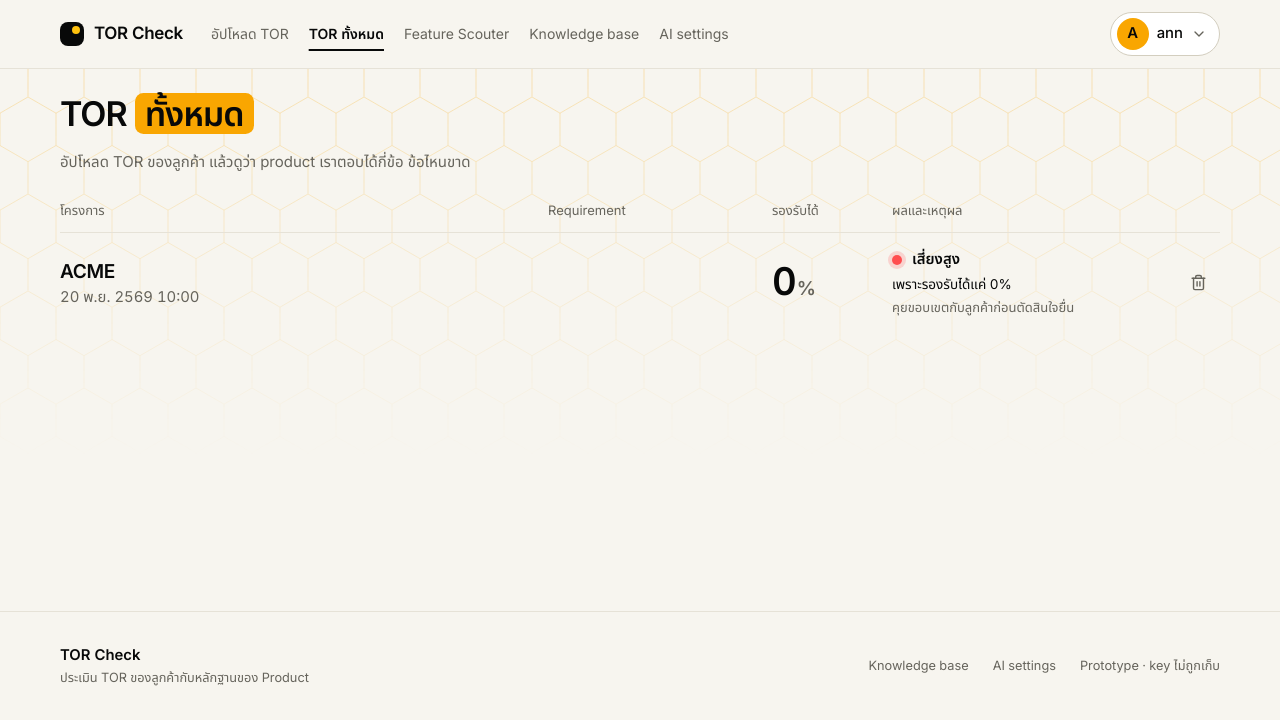
Test case: accounts in the app › deletes an entry after confirming
Click the button named "ลบ ACME".
click(1198, 283)  # box [1176, 261, 1220, 305]
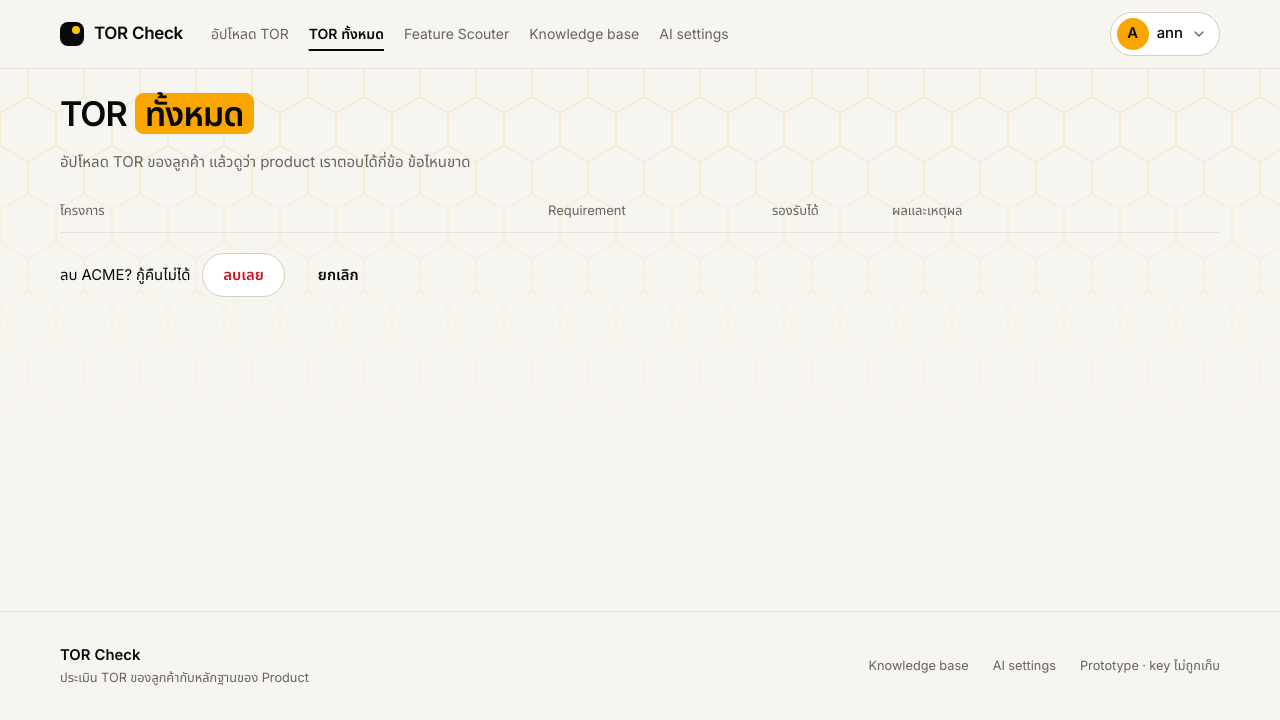
Click the button "ลบเลย".
click(244, 275)  # box [202, 253, 285, 297]
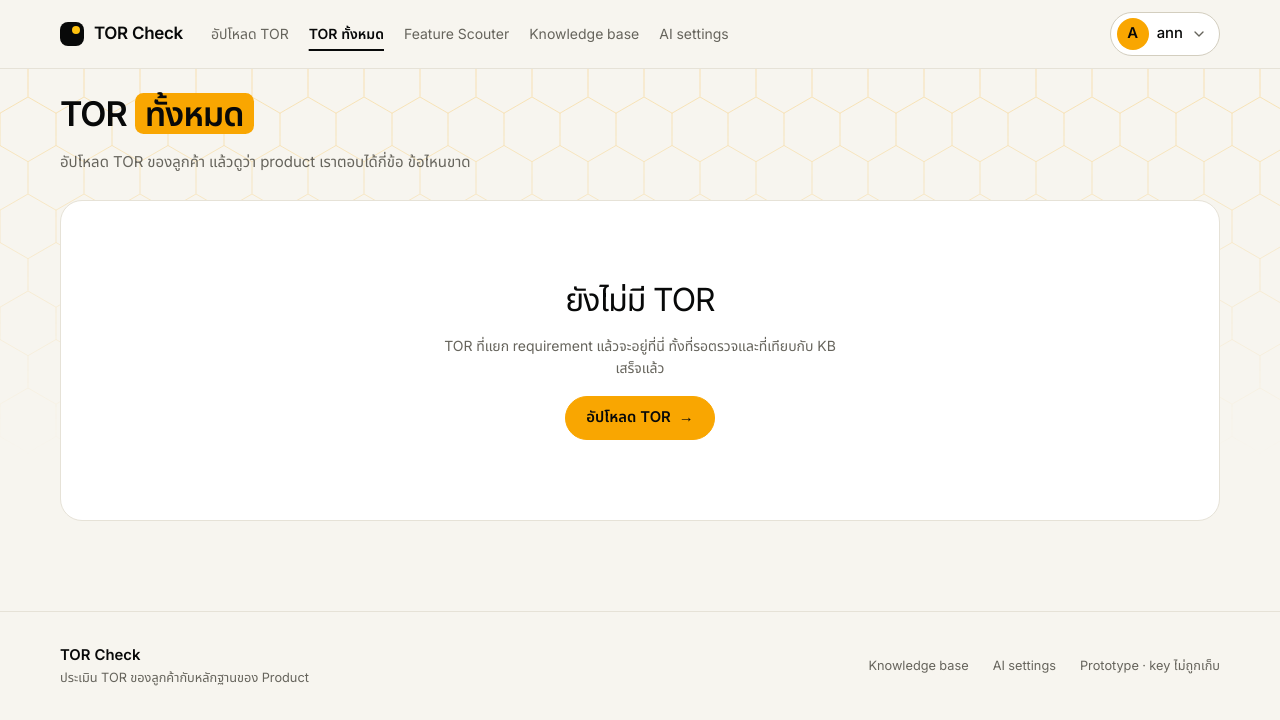
Now the text "ACME" is gone
